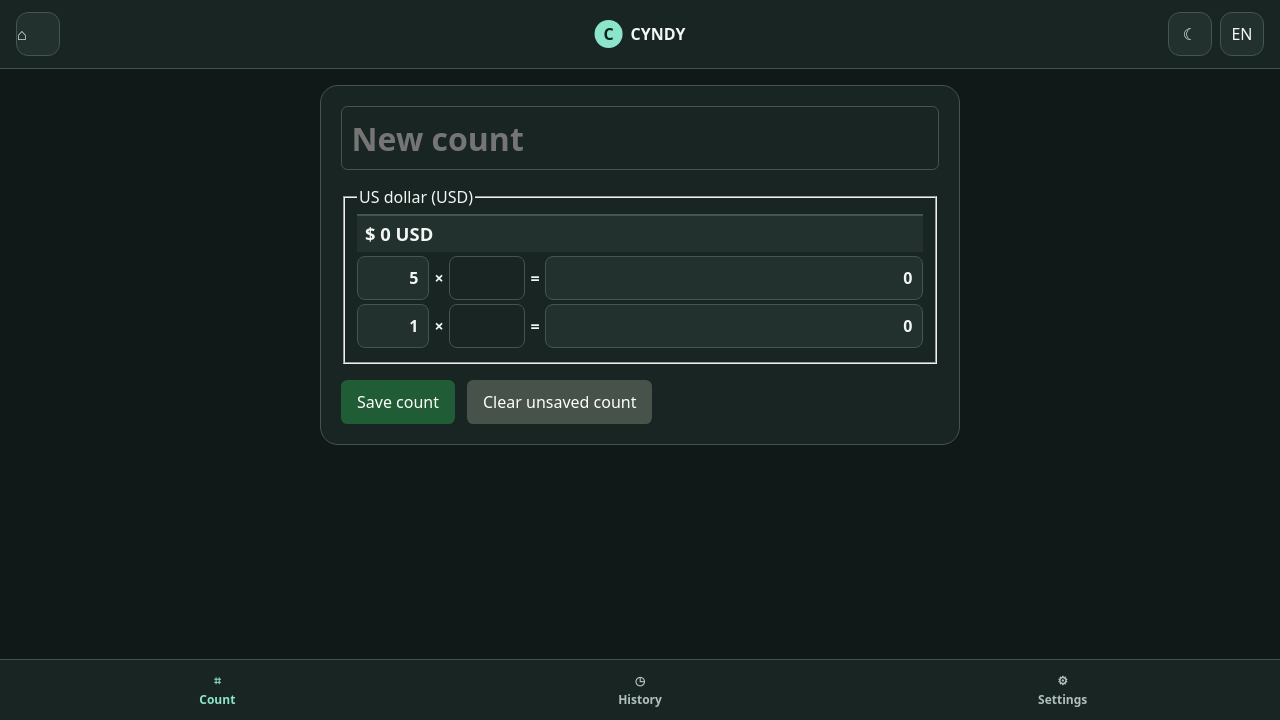
new count route › describes each quantity subtotal with its value and currency while keeping the visible subtotal numeric-only
Expected: the text with id "usd" reads "0", left=903, top=315, right=912, bottom=337
Type "3" into the number field named "$1 quantity" at (487, 326), box left=449, top=304, right=525, bottom=348
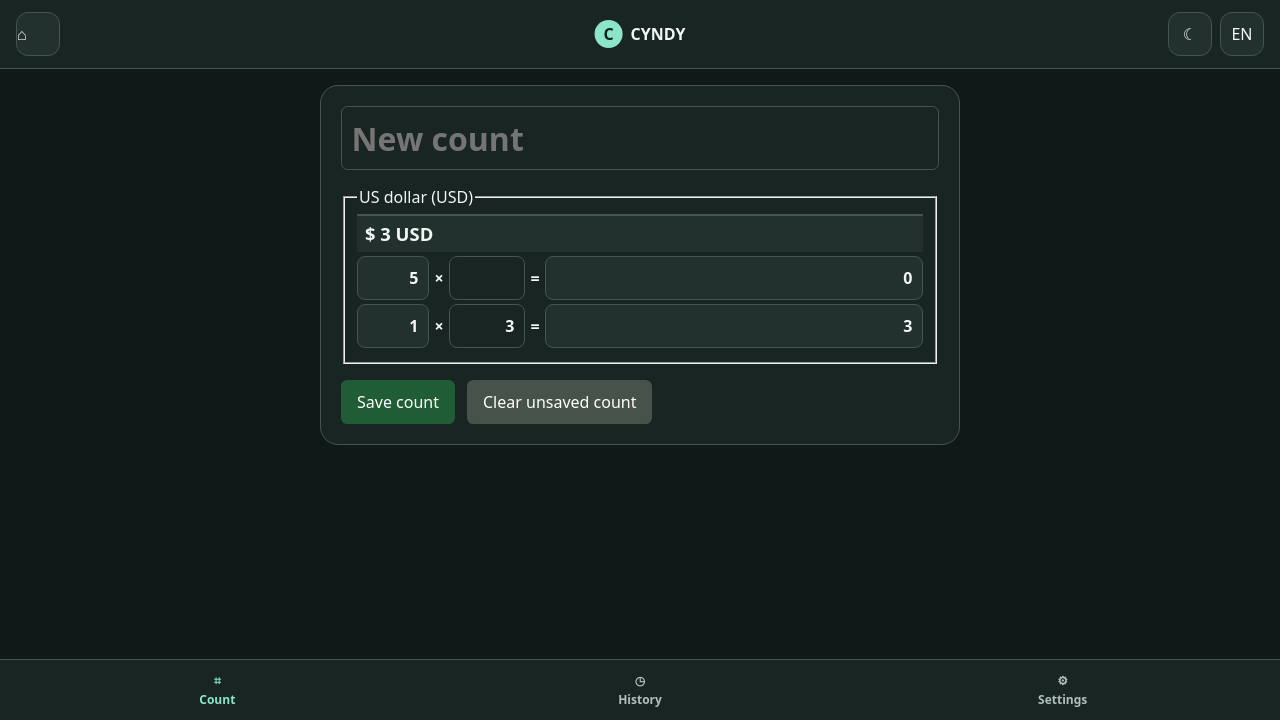
Now the text with id "usd" reads "3", box left=903, top=315, right=912, bottom=337
